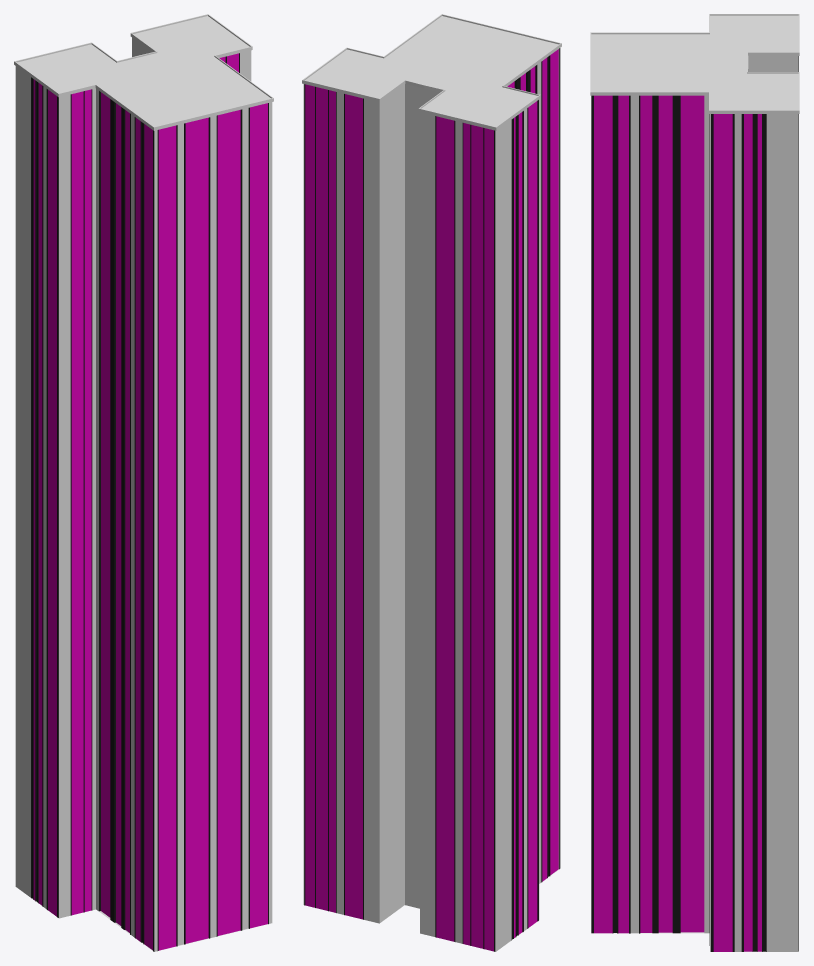
3 views of the same model, side by side, from view 1: azimuth 30°, elevation 25°; view 2: azimuth 150°, elevation 25°; view 3: azimuth 270°, elevation 25° (orthographic). The views are drawn at different scales.
Visible parts, largest first — view 1: gb1_mesh.002; view 2: gb1_mesh.002; view 3: gb1_mesh.002.
Boxes of the visible parts, left/top/right/bottom form: gb1_mesh.002: left=14, top=14, right=273, bottom=951; gb1_mesh.002: left=302, top=14, right=561, bottom=951; gb1_mesh.002: left=590, top=14, right=799, bottom=951.
Bounding box in the file's own units: 4309 × 17500 × 3950.
